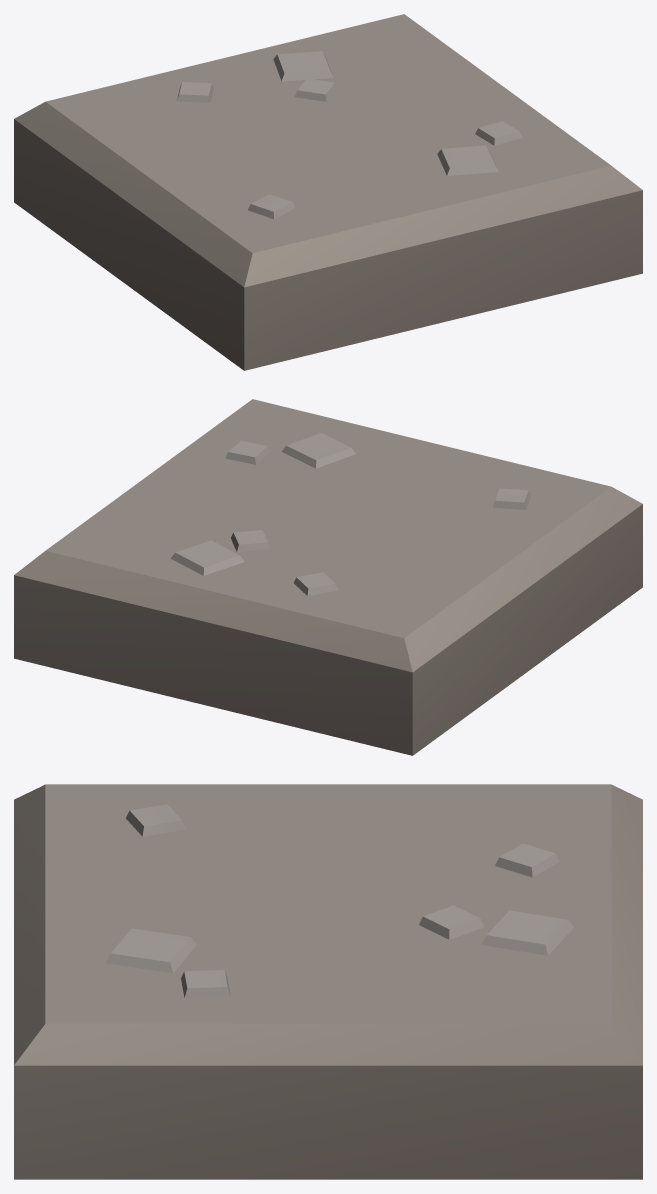
The model's file is floor_dirt_small.gltf.
3 views of the same model, one above another, from view 1: azimuth 30°, elevation 25°; view 2: azimuth 150°, elevation 25°; view 3: azimuth 270°, elevation 25° (orthographic). The views are drawn at different scales.
Visible parts, largest first — view 1: floor_dirt_small; view 2: floor_dirt_small; view 3: floor_dirt_small.
Part boxes in pixels (box(x1,y1,x2,y2)): floor_dirt_small: box(14, 14, 642, 370); floor_dirt_small: box(14, 399, 642, 755); floor_dirt_small: box(14, 784, 642, 1179).
Size of the model in its own units: 2 by 0.53 by 2.
Materials: 1 (1 with a texture image).
